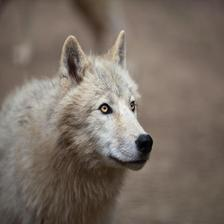WOLF: (49, 33, 154, 224)
